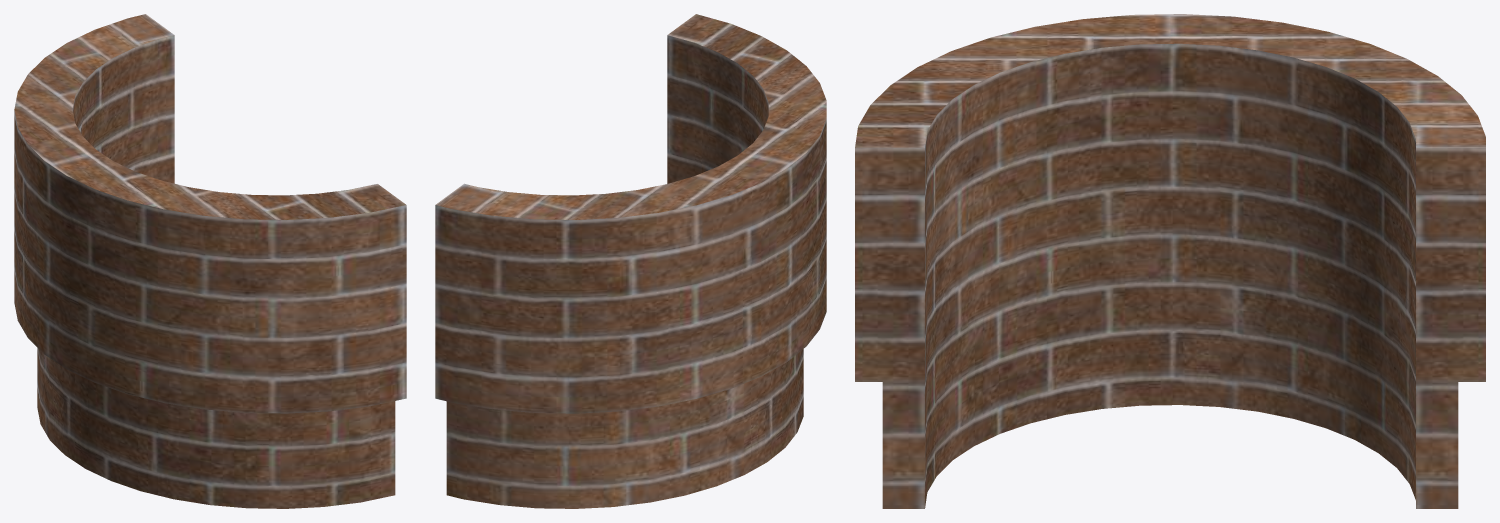
File: Joglo_part_331.fbx
3 views of the same model, side by side, from view 1: azimuth 30°, elevation 25°; view 2: azimuth 150°, elevation 25°; view 3: azimuth 270°, elevation 25° (orthographic). The views are drawn at different scales.
Parts seen in each view (by area): view 1: Mesh390_Brick___Brown_0.001; view 2: Mesh390_Brick___Brown_0.001; view 3: Mesh390_Brick___Brown_0.001.
Boxes of the visible parts, <box> form: Mesh390_Brick___Brown_0.001: <box>14,14,406,508</box>; Mesh390_Brick___Brown_0.001: <box>435,14,826,508</box>; Mesh390_Brick___Brown_0.001: <box>855,14,1485,508</box>.
Bounding box in the file's own units: 17.76 × 22.38 × 35.42.
